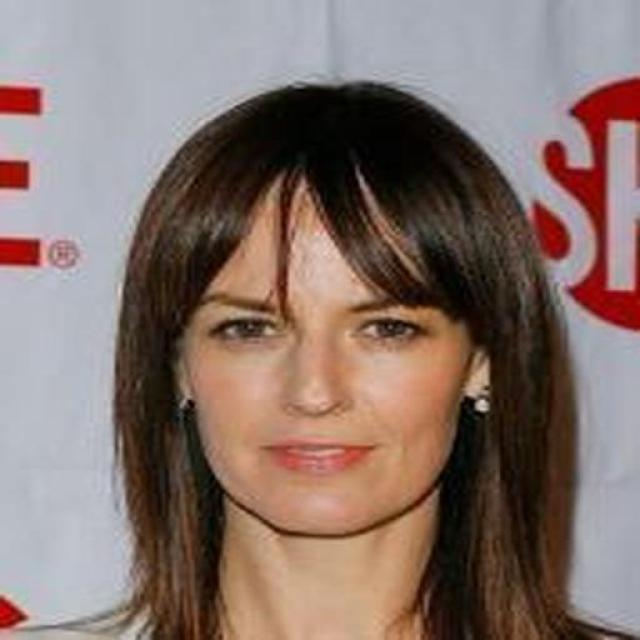bareface: (141, 149, 482, 532)
